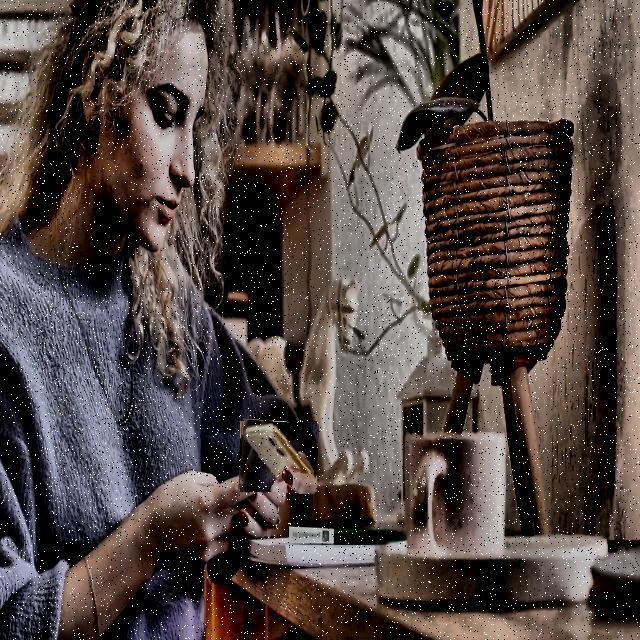Phone: (239, 420, 318, 493)
